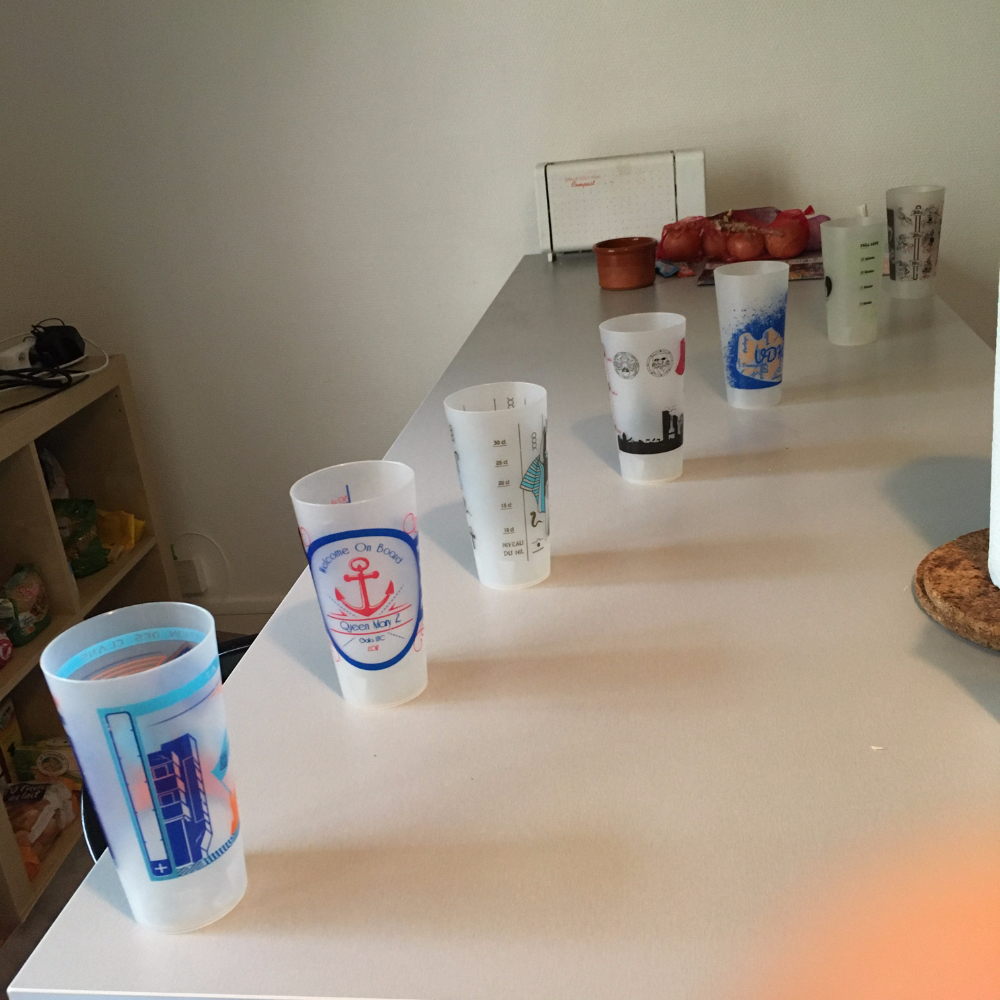ecocup: (40, 602, 246, 932), (289, 460, 427, 707), (443, 381, 550, 589), (598, 311, 687, 483), (713, 260, 789, 408), (820, 217, 887, 346), (887, 184, 947, 298)
